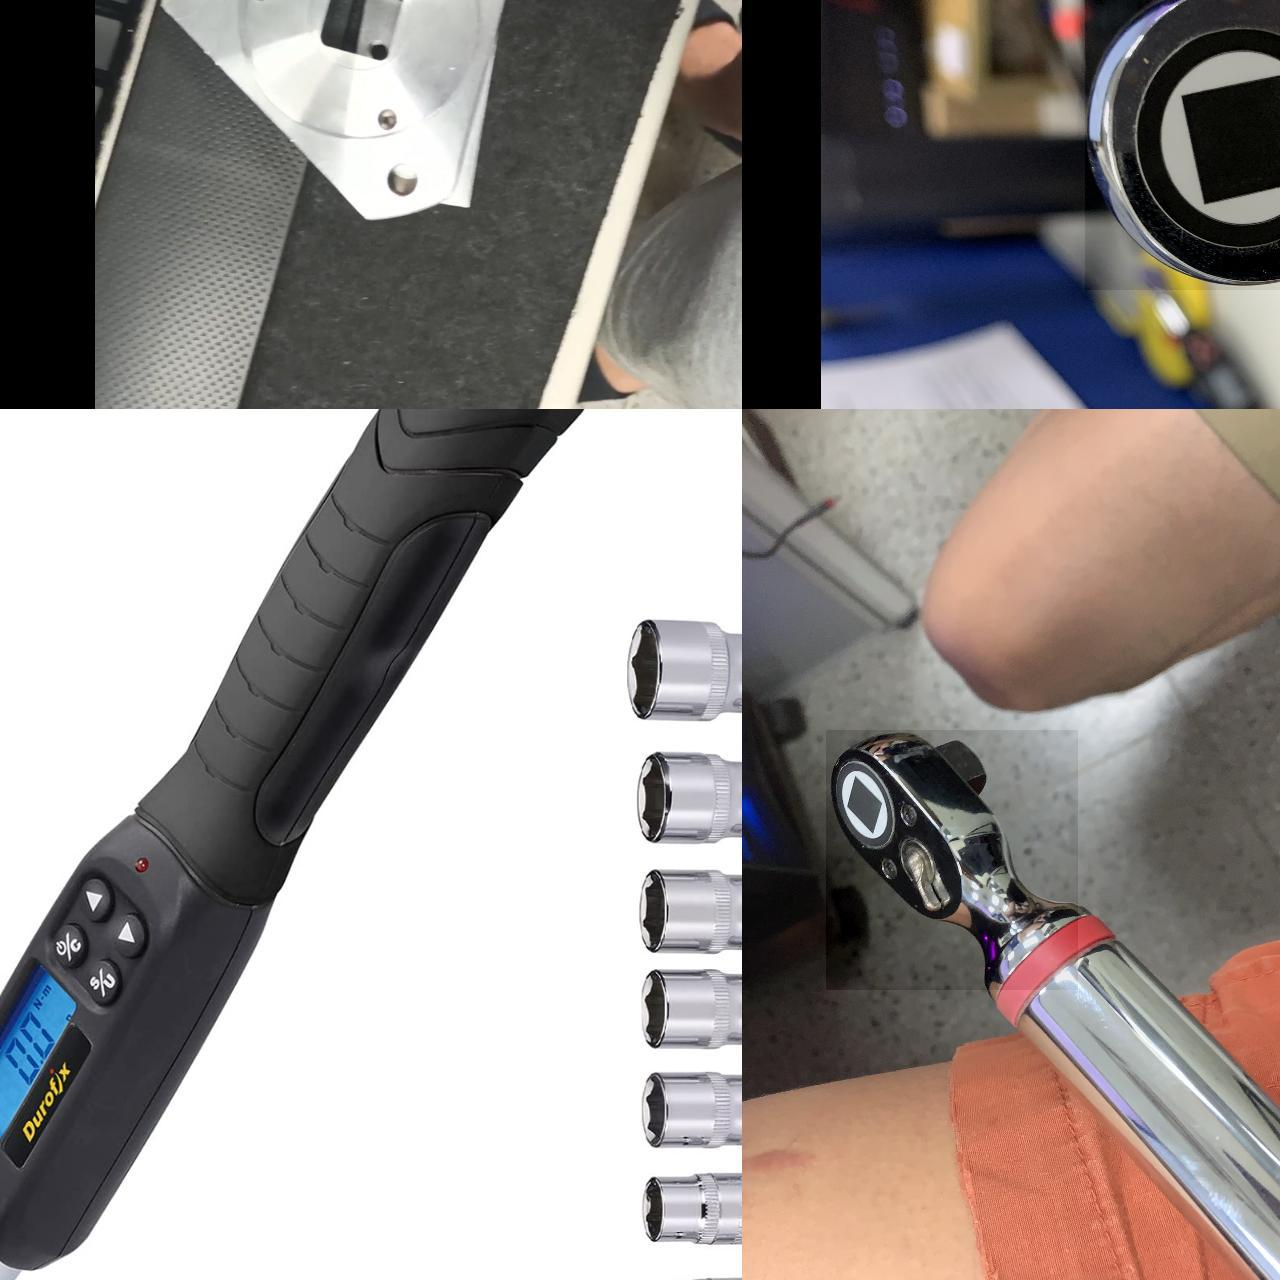Tool: (825, 730, 1077, 990), (1084, 0, 1280, 290)
